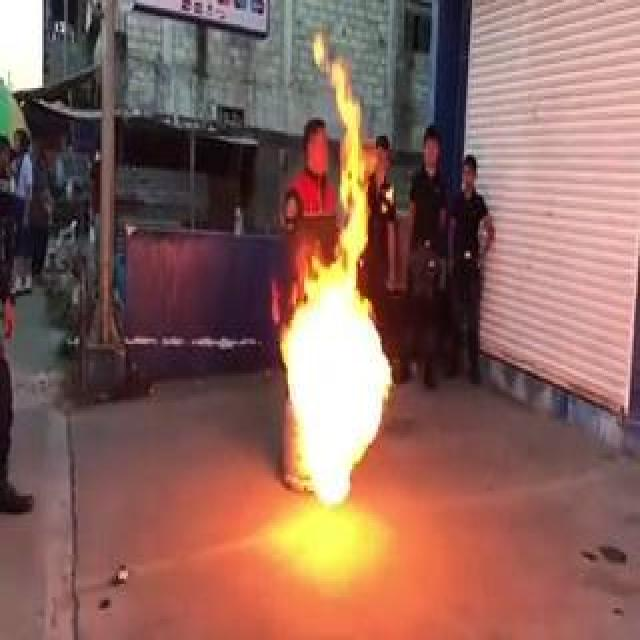Fire: (279, 41, 387, 498)
